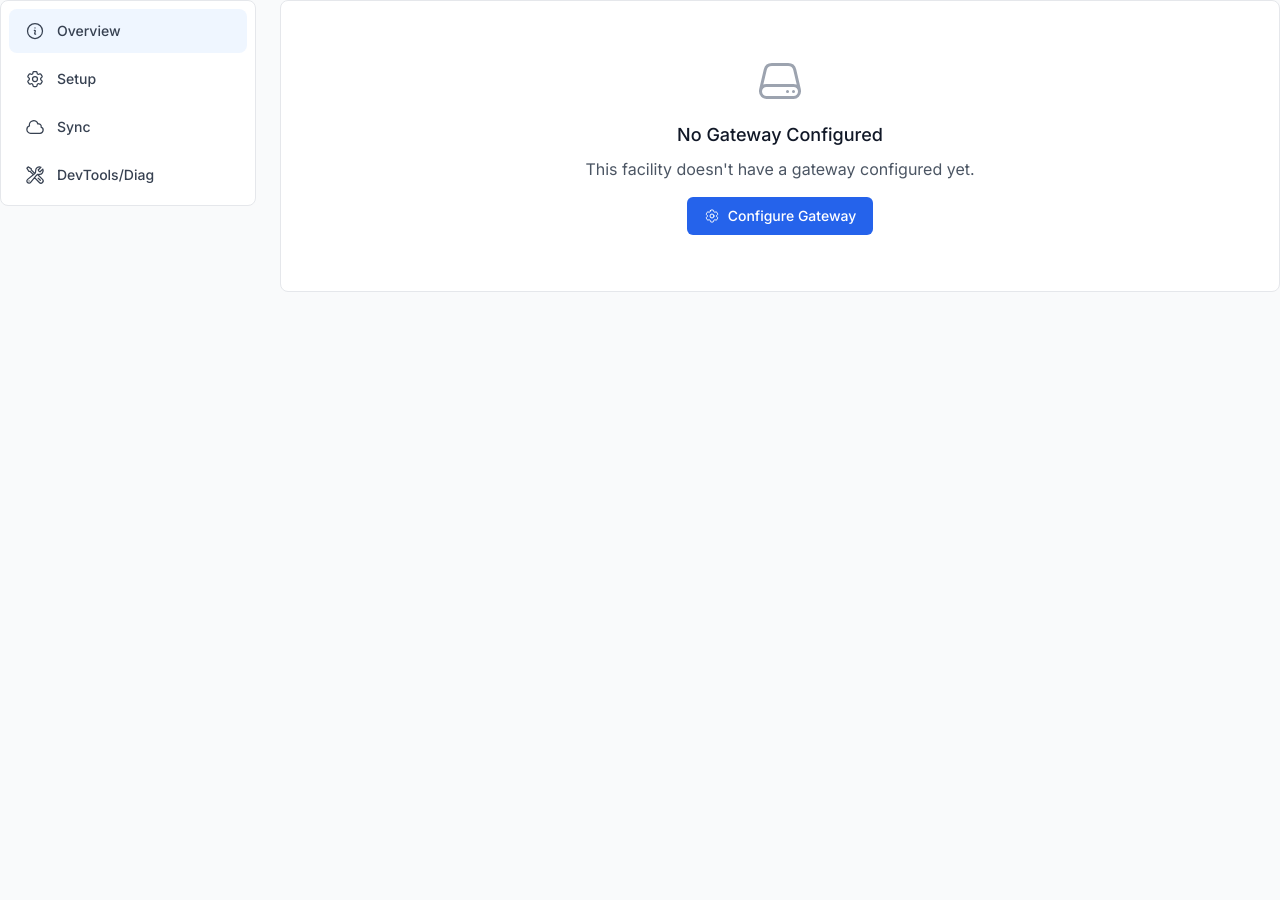
FacilityGatewayTab › Gateway Types › should show WebSocket fields for physical gateway type
# Click the Setup tab
Click the button "Setup".
click(128, 79)  # box [9,57,247,101]
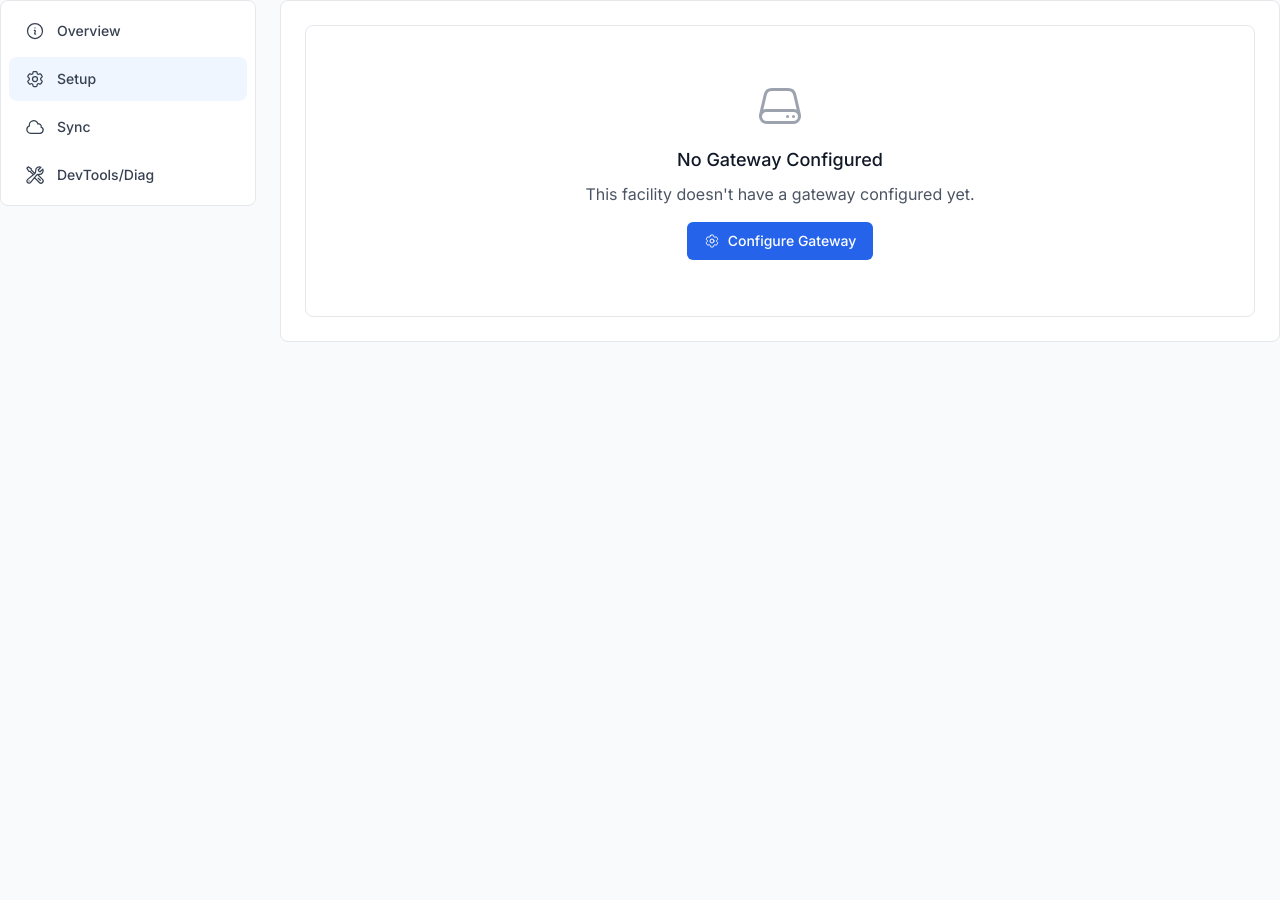
Click the button "Configure Gateway".
click(780, 241)  # box [687,222,873,260]
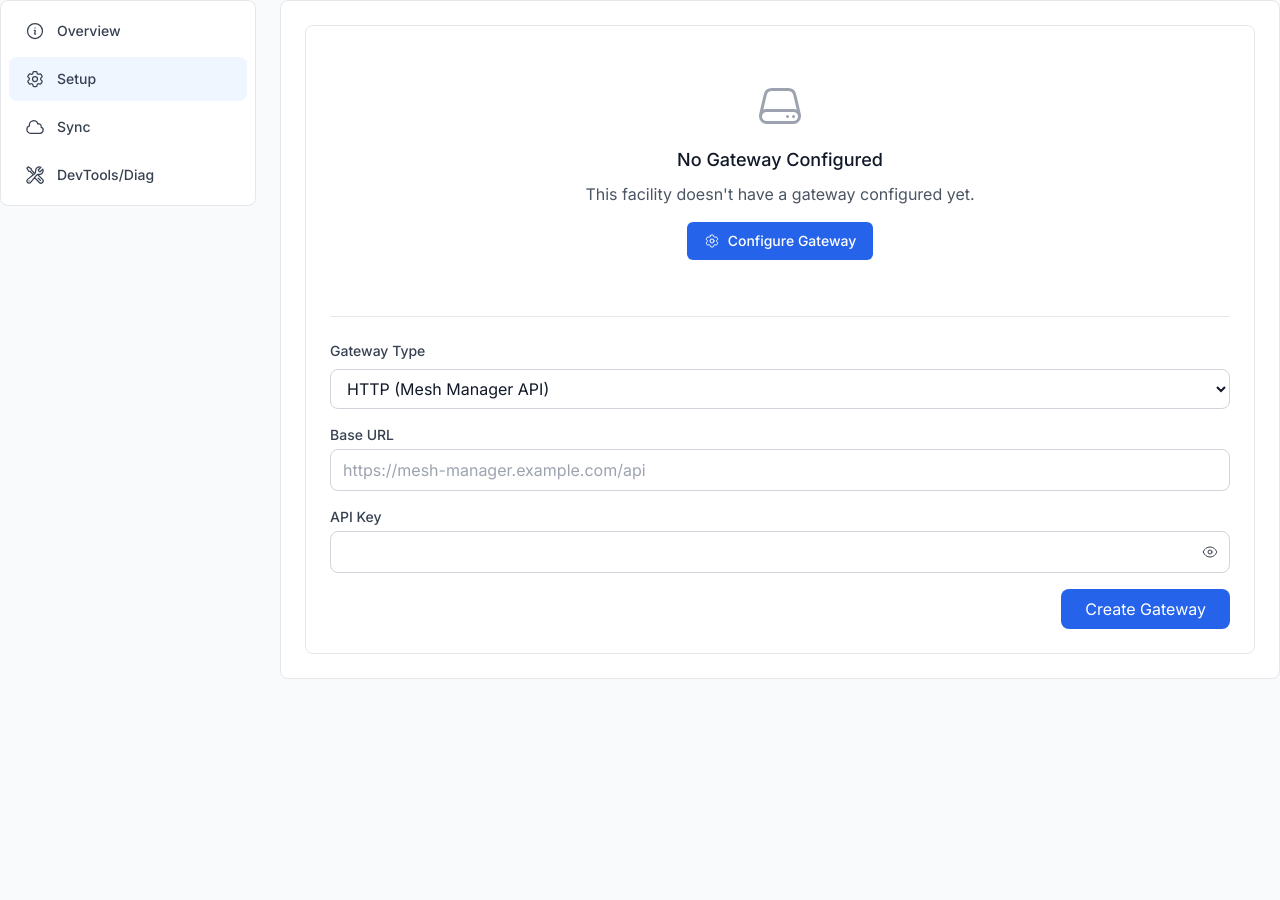
Result: the text "Gateway Type" is shown at [330,342,425,359]
Select "Physical (WebSocket)" in the dropdown showing "HTTP (Mesh Manager API)" at point(780, 389), box [330,369,1230,409]
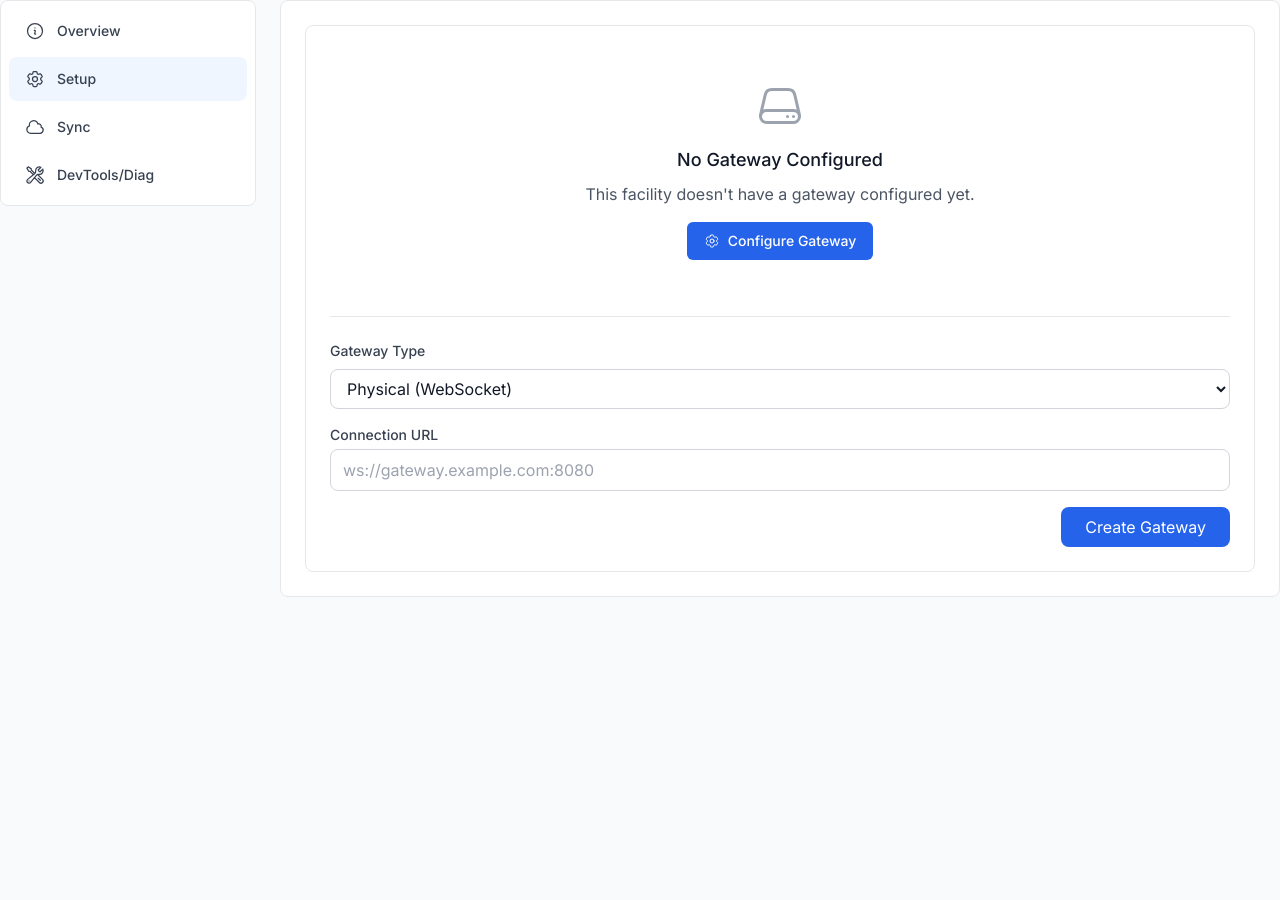
Result: the text "Connection URL" is shown at [330,426,438,443]
